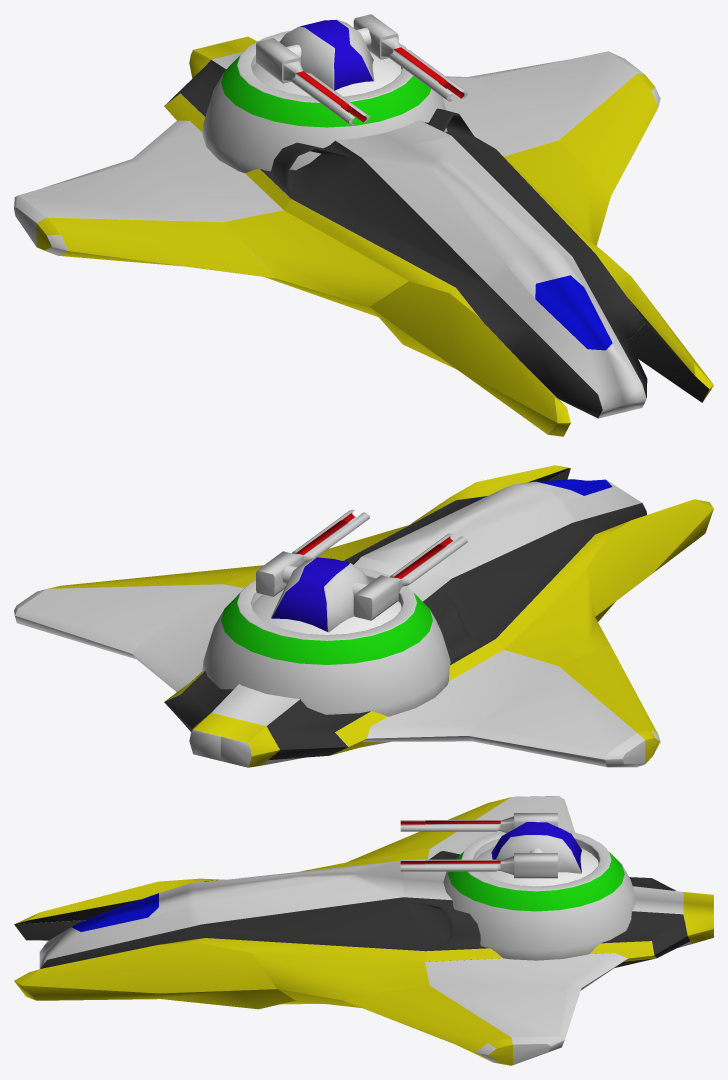
Rendered from LookingGlassShip.fbx.
The picture shows the model from 3 angles, top to bottom: view 1: azimuth 30°, elevation 25°; view 2: azimuth 150°, elevation 25°; view 3: azimuth 270°, elevation 25°; orthographic projection. The views are drawn at different scales.
Parts seen in each view (by area): view 1: Hull, TurretBezel, Barrels, Gun, Turret; view 2: Hull, TurretBezel, Barrels, Gun, Turret; view 3: Hull, TurretBezel, Barrels, Gun, Turret.
Part boxes in pixels (x1=…): Hull: x1=14, y1=36, x2=713, y2=436; TurretBezel: x1=202, y1=30, x2=447, y2=173; Barrels: x1=256, y1=14, x2=467, y2=125; Gun: x1=279, y1=19, x2=374, y2=90; Turret: x1=252, y1=52, x2=401, y2=96; Hull: x1=14, y1=465, x2=713, y2=767; TurretBezel: x1=202, y1=567, x2=450, y2=716; Barrels: x1=256, y1=509, x2=467, y2=620; Gun: x1=271, y1=557, x2=370, y2=632; Turret: x1=252, y1=589, x2=401, y2=634; Hull: x1=14, y1=796, x2=713, y2=1065; TurretBezel: x1=443, y1=830, x2=636, y2=960; Barrels: x1=400, y1=813, x2=557, y2=878; Gun: x1=491, y1=821, x2=581, y2=873; Turret: x1=476, y1=846, x2=598, y2=886.
Bounding box in the file's own units: 713 × 210 × 852.
